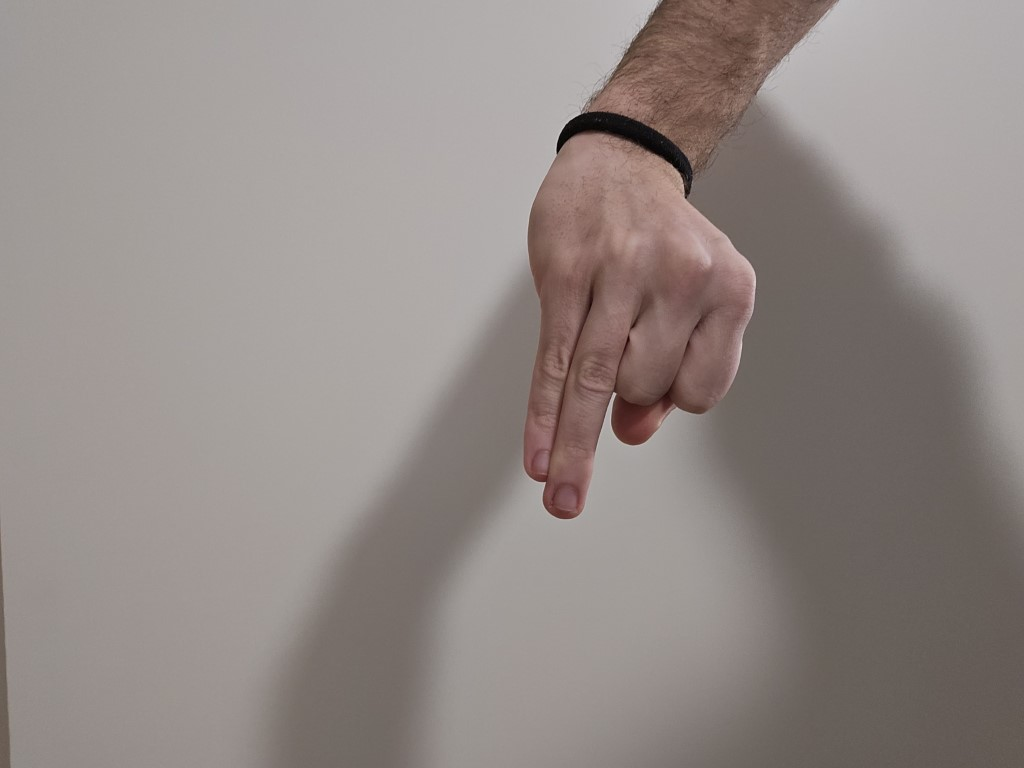n: (503, 143, 770, 552)
